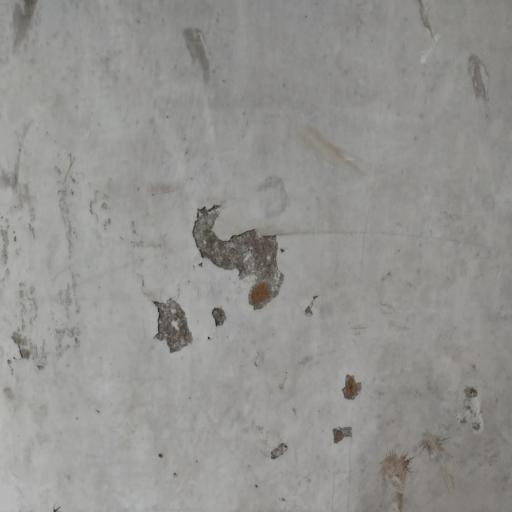peeling: (121, 182, 292, 372), (373, 409, 499, 512), (321, 353, 383, 408), (296, 278, 342, 331), (316, 411, 362, 451), (254, 433, 304, 467)
